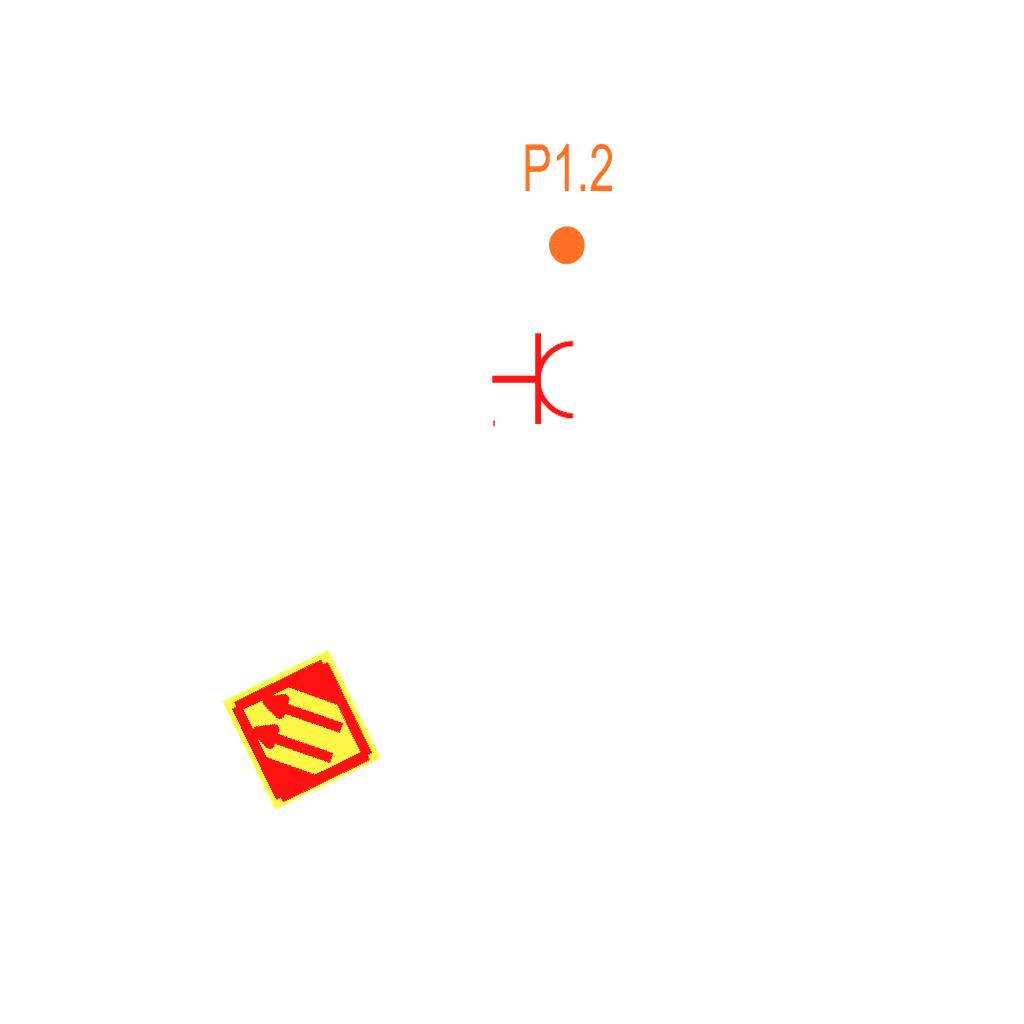ASR_Ansaugrauchmelder: (217, 645, 386, 814)
Downlight_LED_Einbauleuchten_Flur: (522, 140, 615, 268)
Schukosteckdose_einfach: (490, 331, 577, 431)
